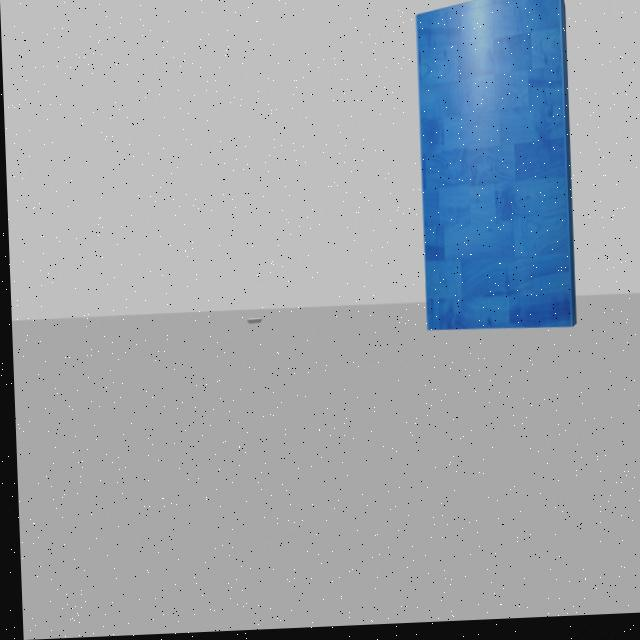bowl: (238, 312, 267, 339)
shelf: (394, 0, 581, 370)
